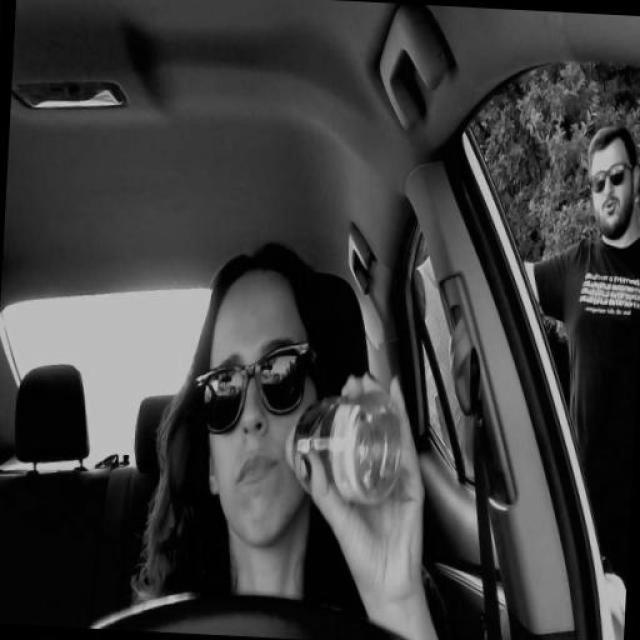Drinking: (291, 394, 407, 506)
